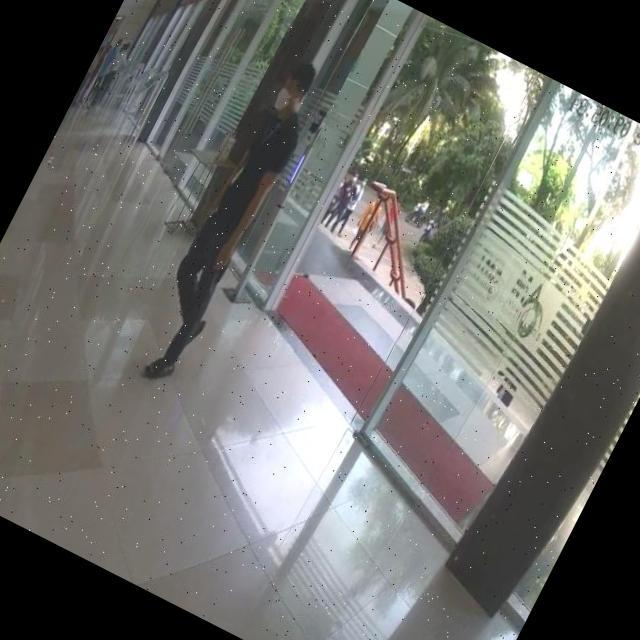person: (120, 53, 330, 396)
